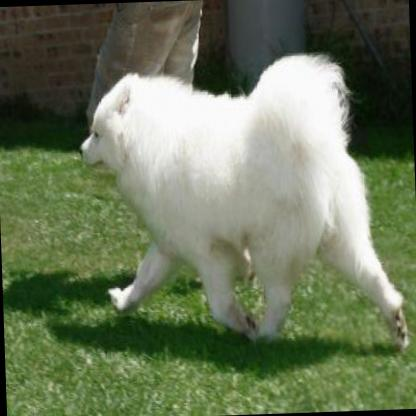Samoyed: (73, 46, 410, 363)
